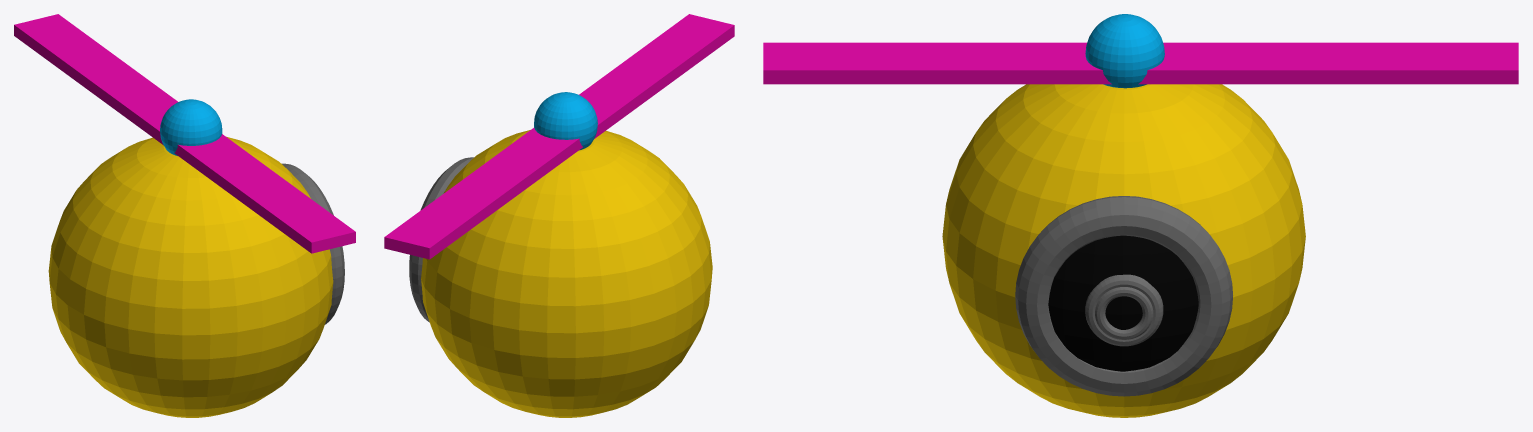
File: camera drone.fbx
The picture shows the model from 3 angles, left to right: view 1: azimuth 30°, elevation 25°; view 2: azimuth 150°, elevation 25°; view 3: azimuth 270°, elevation 25°; orthographic projection. The views are drawn at different scales.
Parts seen in each view (by area): view 1: Sphere, Cube, Sphere.002, Torus; view 2: Sphere, Cube, Sphere.002, Torus; view 3: Sphere, Cube, Torus, Sphere.001, Sphere.002, Torus.001, Torus.002.
Boxes of the visible parts, box(x1,y1,x2,y2) form: Sphere: box(48, 137, 333, 417); Cube: box(14, 14, 355, 253); Sphere.002: box(160, 99, 222, 155); Torus: box(282, 163, 344, 324); Sphere: box(421, 130, 712, 417); Cube: box(384, 14, 734, 259); Sphere.002: box(534, 92, 597, 150); Torus: box(409, 157, 473, 322); Sphere: box(942, 84, 1305, 417); Cube: box(763, 42, 1518, 84); Torus: box(1015, 196, 1232, 396); Sphere.001: box(1048, 235, 1198, 371); Sphere.002: box(1085, 14, 1164, 88); Torus.001: box(1085, 274, 1163, 346); Torus.002: box(1095, 287, 1153, 339).
Bounding box in the file's own units: 206 × 233 × 416.
